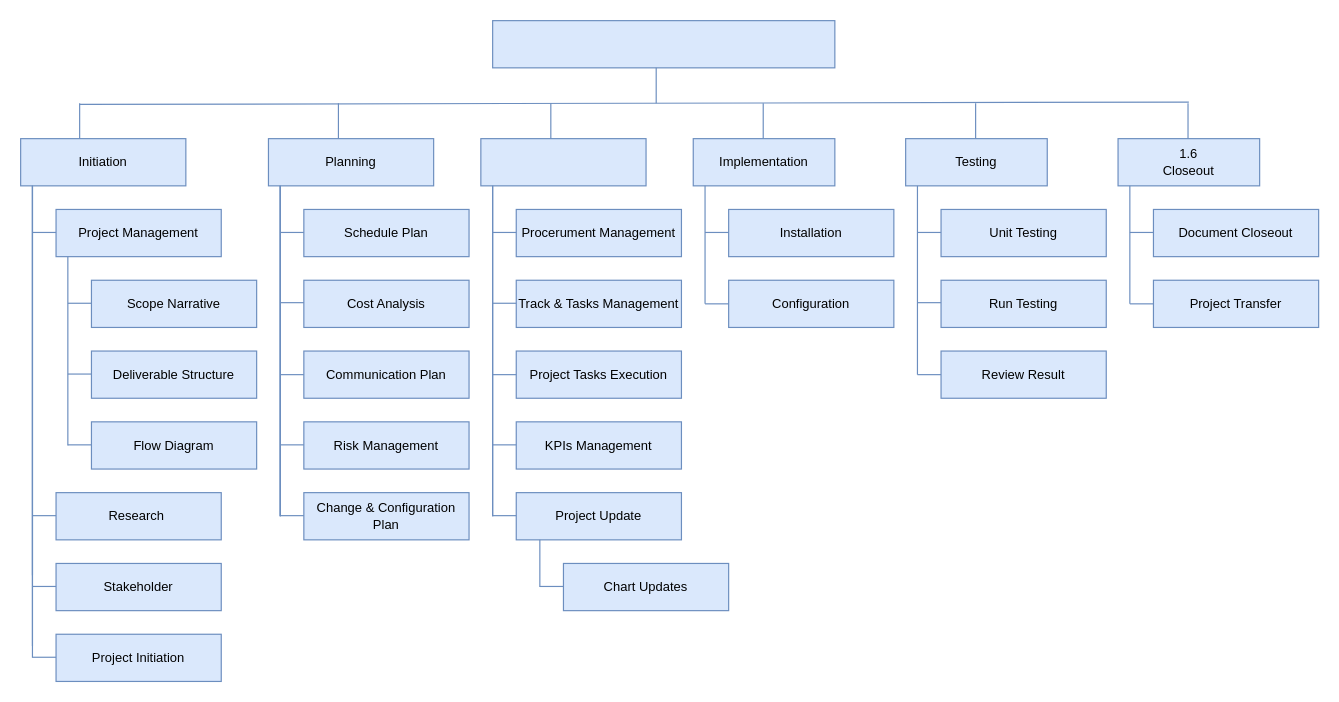
The diagram is 1339 pixels wide and 702 high, and some of its shapes have lost their labels. Here are the shapes that lost their labels. From the top down, the centre of each, then its label:
the point at 663,43: 1 Fire Detection using Computer Vision
the point at 563,161: Execution
